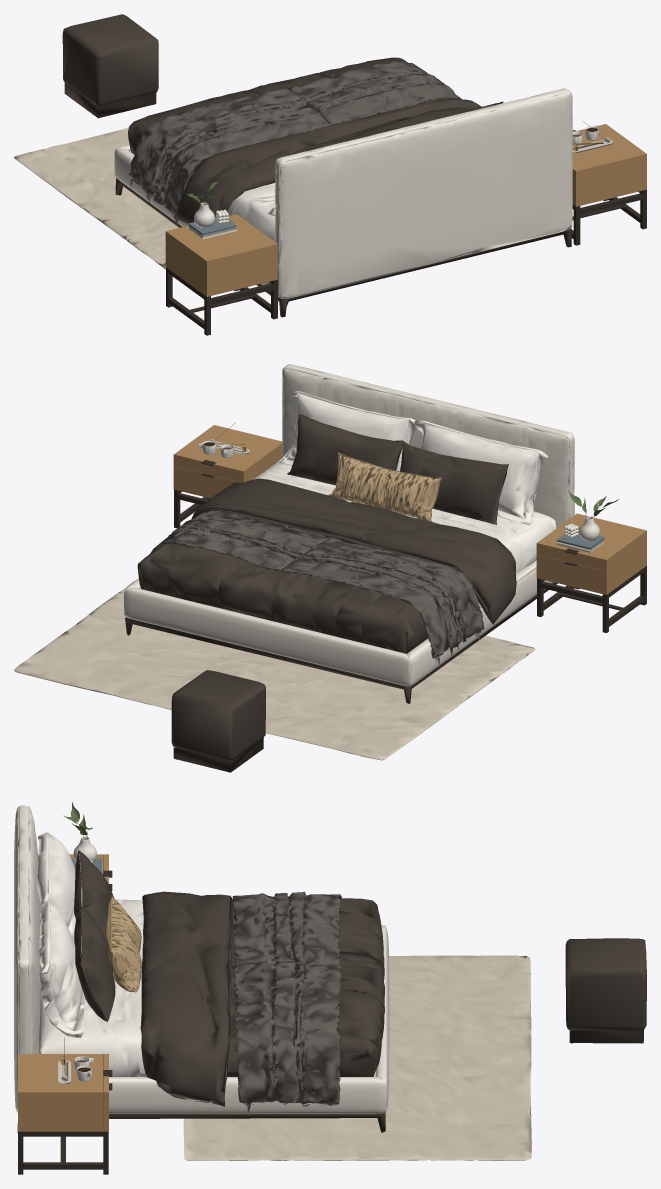
File: bedroom-set.glb
3 views of the same model, one above another, from view 1: azimuth 30°, elevation 25°; view 2: azimuth 150°, elevation 25°; view 3: azimuth 270°, elevation 25° (orthographic). The views are drawn at different scales.
Parts seen in each view (by area): view 1: andersen_01_010, andersen_01_012, andersen_01_017, andersen_01_013, MELLAL HAND-KNOTTED WOOL RUG, andersen_01_011, Object005, DS_06_01; view 2: andersen_01_012, MELLAL HAND-KNOTTED WOOL RUG, andersen_01_010, andersen_01_017, andersen_01_013, andersen_01_011, andersen_01_014, Object005, DS_06_01; view 3: andersen_01_012, MELLAL HAND-KNOTTED WOOL RUG, andersen_01_013, andersen_01_010, andersen_01_011, andersen_01_017, andersen_01_014, Object005, DS_06_01.
Boxes of the visible parts, <box> form: andersen_01_010: <box>114,88,572,298</box>; andersen_01_012: <box>62,14,503,223</box>; andersen_01_017: <box>64,82,646,335</box>; andersen_01_013: <box>128,61,461,226</box>; MELLAL HAND-KNOTTED WOOL RUG: <box>14,127,178,269</box>; andersen_01_011: <box>228,183,275,241</box>; Object005: <box>186,176,237,239</box>; DS_06_01: <box>572,121,612,153</box>; andersen_01_012: <box>137,414,516,760</box>; MELLAL HAND-KNOTTED WOOL RUG: <box>14,578,535,760</box>; andersen_01_010: <box>124,364,574,686</box>; andersen_01_017: <box>125,425,646,772</box>; andersen_01_013: <box>150,511,484,666</box>; andersen_01_011: <box>252,391,556,573</box>; andersen_01_014: <box>328,452,441,521</box>; Object005: <box>556,490,619,552</box>; DS_06_01: <box>198,423,565,539</box>; andersen_01_012: <box>74,850,646,1106</box>; MELLAL HAND-KNOTTED WOOL RUG: <box>183,955,531,1160</box>; andersen_01_013: <box>232,891,341,1115</box>; andersen_01_010: <box>14,805,389,1113</box>; andersen_01_011: <box>37,832,147,1077</box>; andersen_01_017: <box>17,854,643,1174</box>; andersen_01_014: <box>104,895,141,992</box>; Object005: <box>63,802,102,882</box>; DS_06_01: <box>58,1037,93,1084</box>.
Size of the model in its own units: 3.1 by 1.06 by 3.48.
